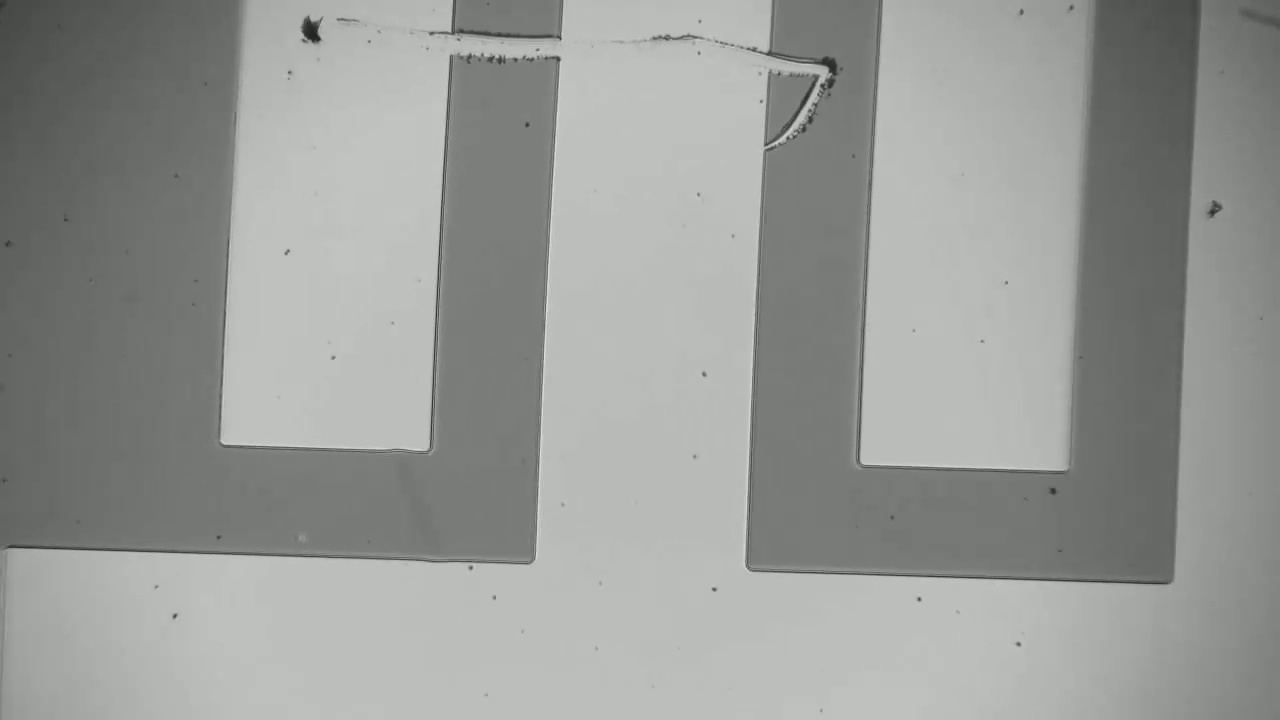Short_circuit: (412, 18, 578, 87), (741, 28, 898, 99)
